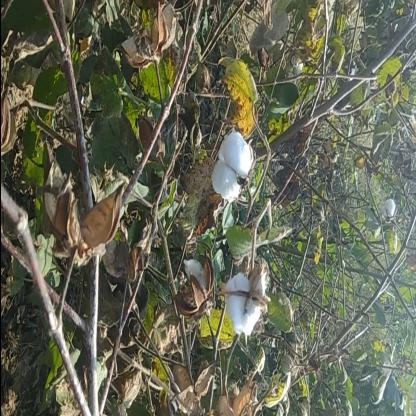cotton_ready: (203, 114, 261, 218), (212, 257, 272, 346)
